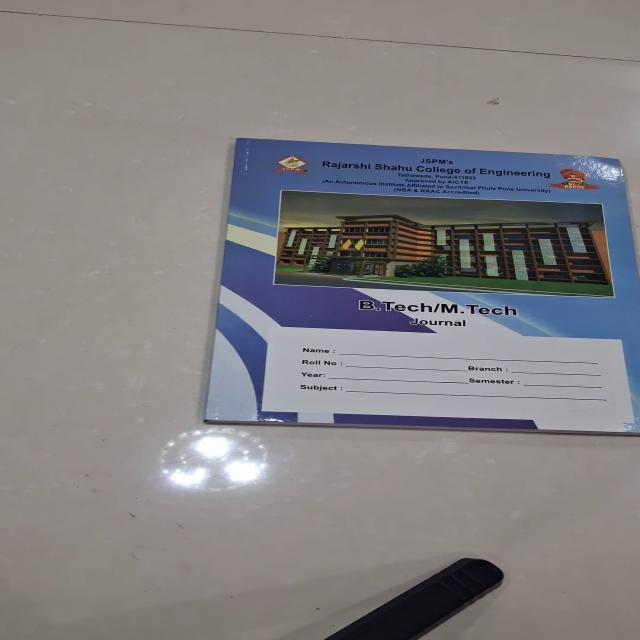paper: (202, 137, 638, 433)
